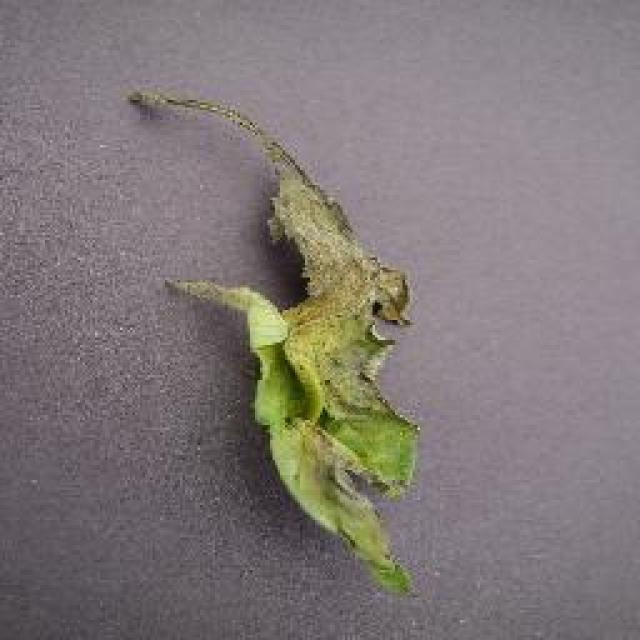Tomato Late Blight: (115, 60, 478, 372)
